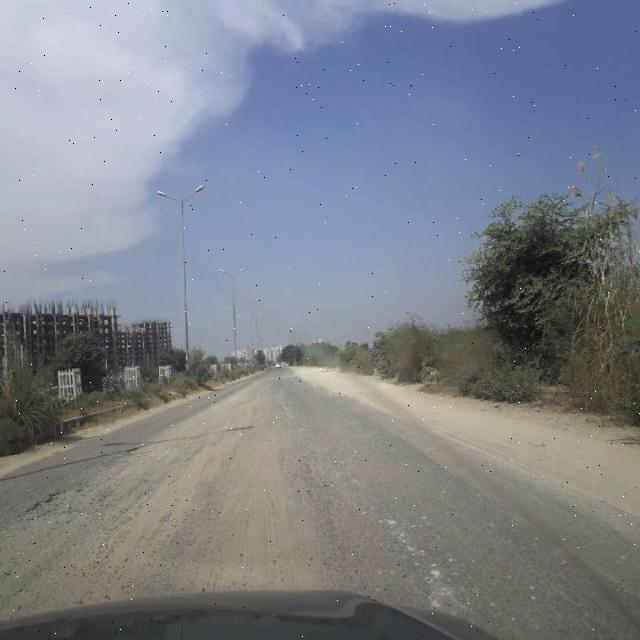D20: (292, 466, 630, 614)
D40: (9, 473, 114, 529), (120, 423, 173, 463), (308, 440, 346, 480)
